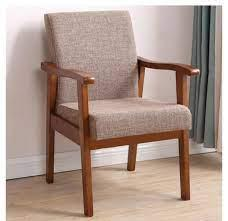chair: (34, 9, 204, 207)
